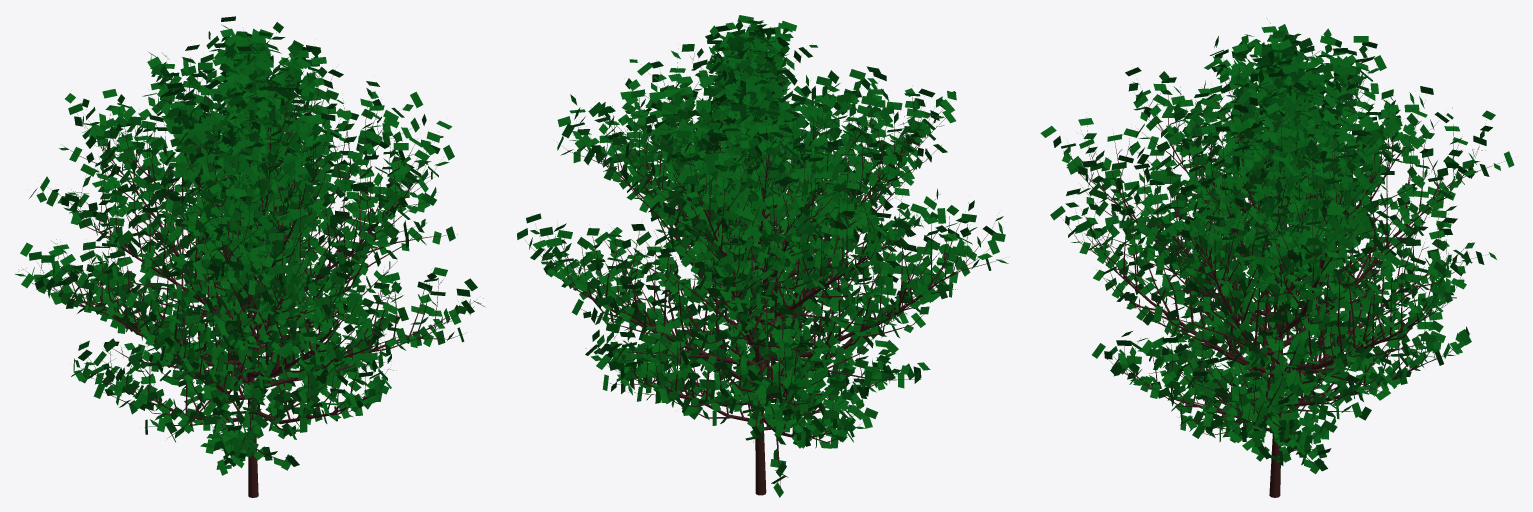
The model's file is LBSR_Tree.fbx.
3 views of the same model, side by side, from view 1: azimuth 30°, elevation 25°; view 2: azimuth 150°, elevation 25°; view 3: azimuth 270°, elevation 25° (orthographic). The views are drawn at different scales.
Visible parts, largest first — view 1: leaves, tree.001; view 2: leaves, tree.001; view 3: leaves, tree.001.
Part boxes in pixels (bbox=[...]): leaves: bbox=[15, 16, 484, 475]; tree.001: bbox=[22, 32, 483, 497]; leaves: bbox=[517, 15, 1008, 497]; tree.001: bbox=[525, 43, 1001, 495]; leaves: bbox=[1040, 19, 1514, 474]; tree.001: bbox=[1056, 23, 1507, 497].
Bounding box in the file's own units: 17.69 × 17.71 × 16.41.
